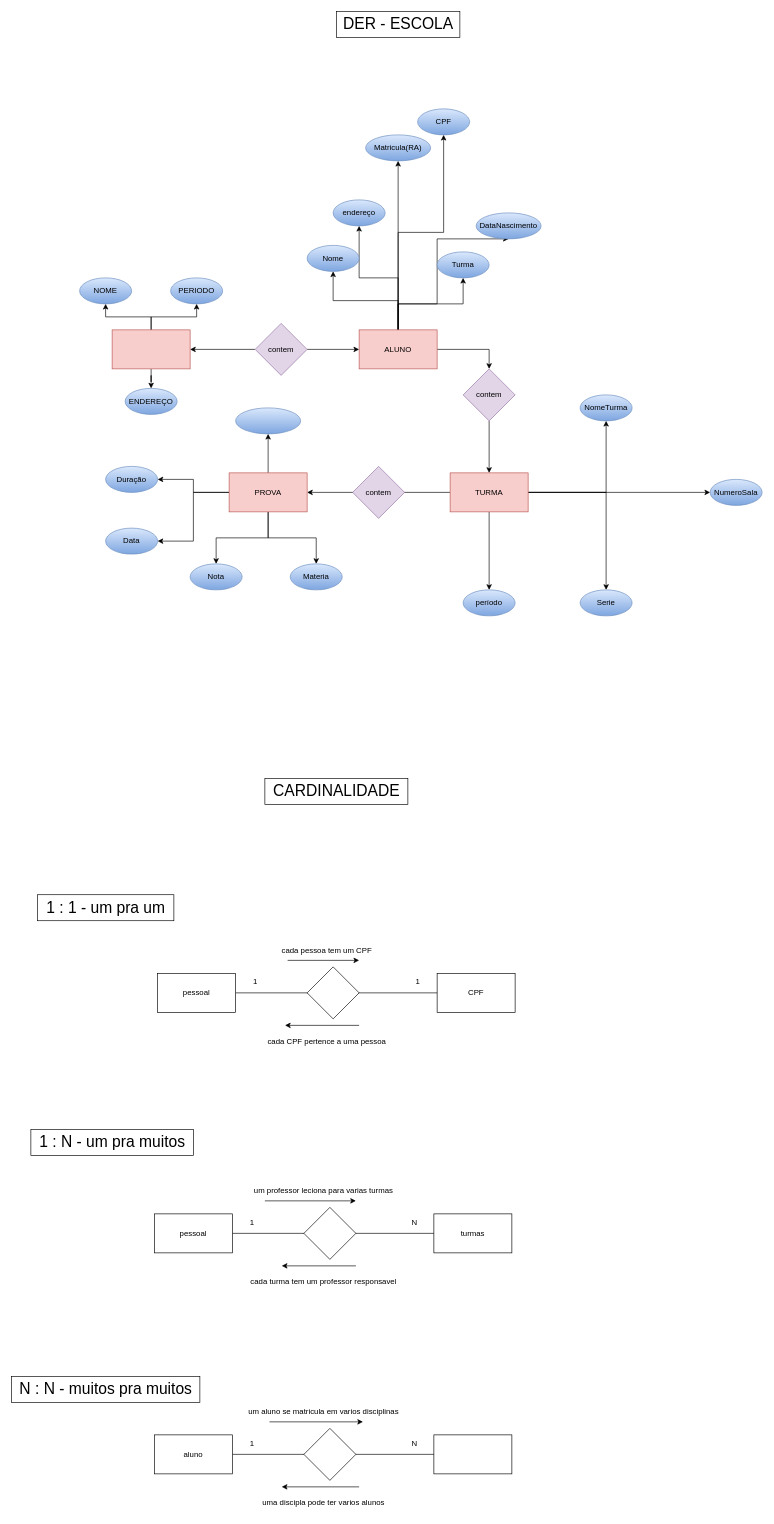
The diagram is 774 pixels wide and 1524 high, and some of its shapes have lost their labels. Here are the shapes that lost their labels. From the top down, the centre of each, then its label:
At point (150, 349): "ESCOLA".
At point (268, 420): "NomeProfessor".
At point (332, 992): "tem".
At point (329, 1233): "leciona".
At point (329, 1454): "matricula".
At point (472, 1454): "disciplina".
